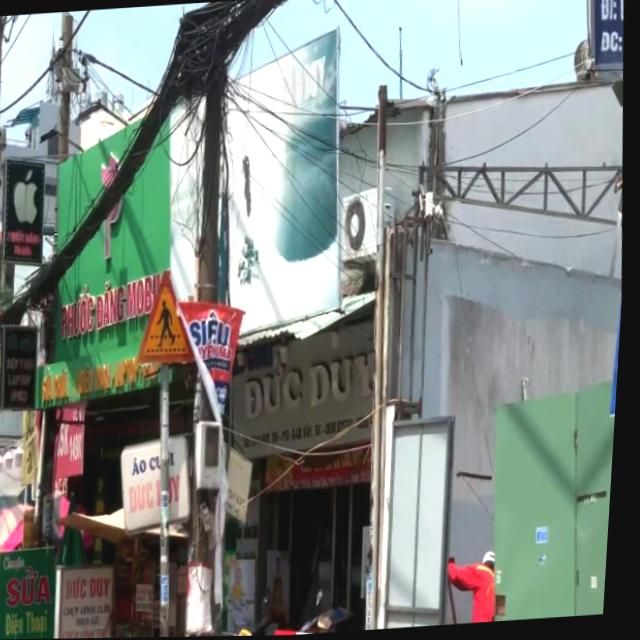Nguoi di bo cat ngang: (136, 266, 204, 366)
